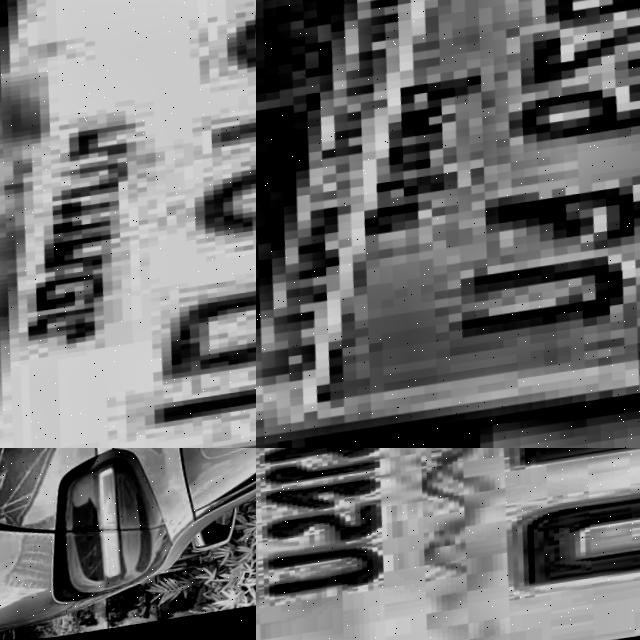license-plate: (256, 0, 640, 448), (0, 0, 256, 448), (256, 448, 640, 640)
